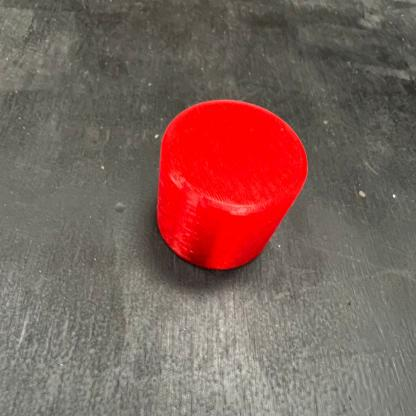red cylinder: (154, 93, 312, 274)
